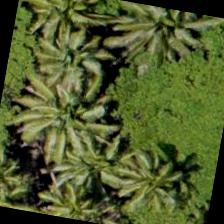Kelapa_Sawit: (11, 64, 116, 168), (11, 2, 115, 106), (10, 0, 99, 60)
